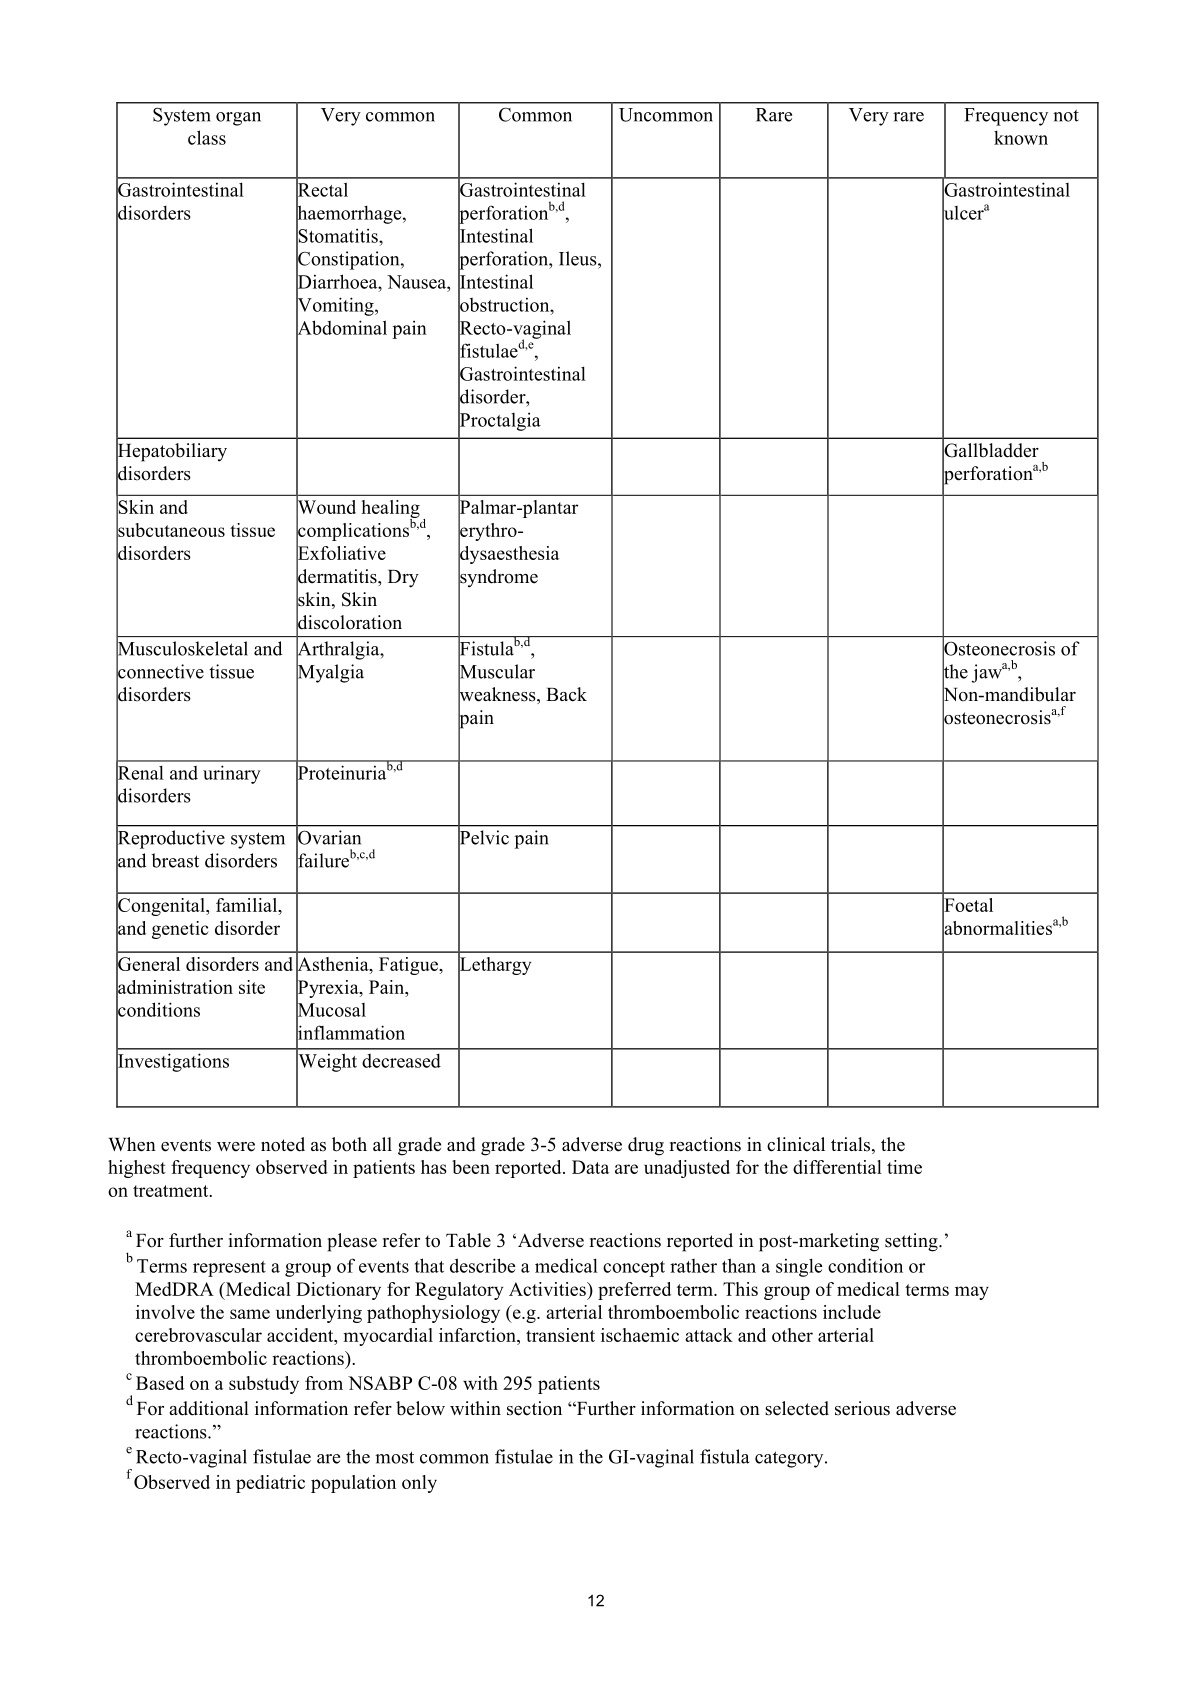full_lined: (116, 102, 1099, 1108)
